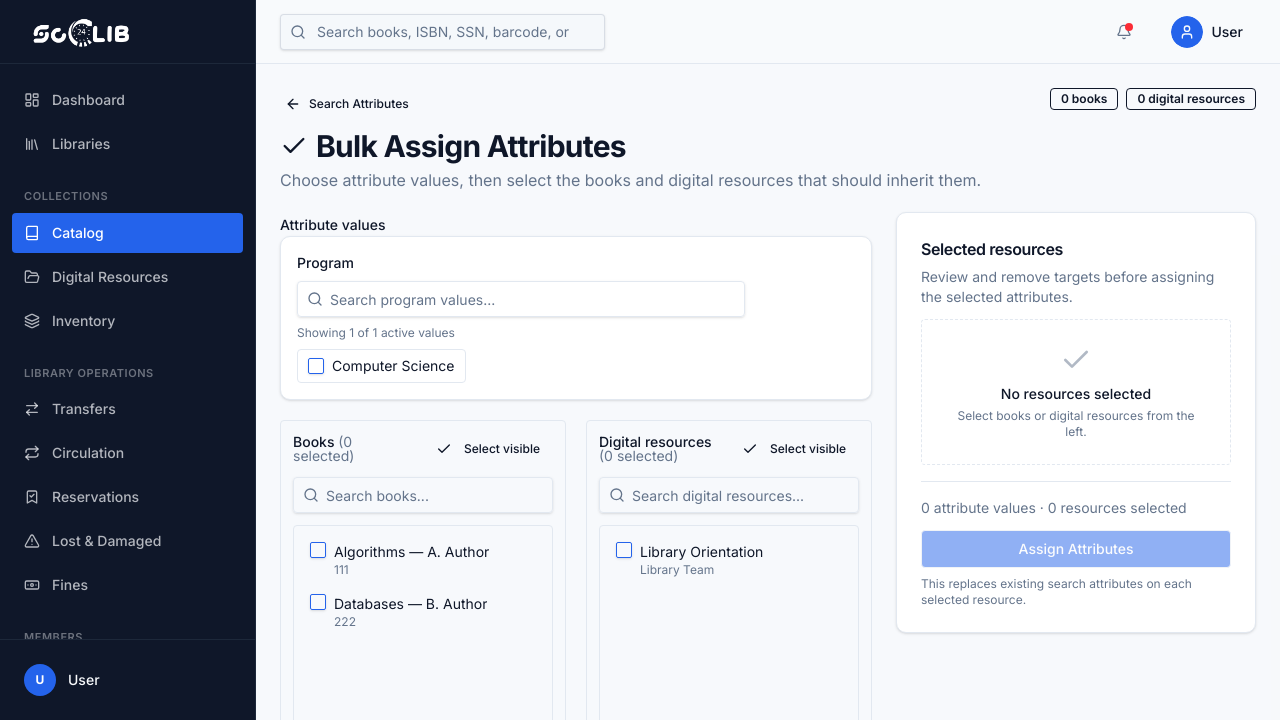
Test: SearchAttributesPage bulk assignment › filters bulk assignment attribute values by name
Type "computer" into the field with test id "input-search-bulk-attribute-1".
click(521, 299); type("computer")  # box [297, 281, 745, 317]
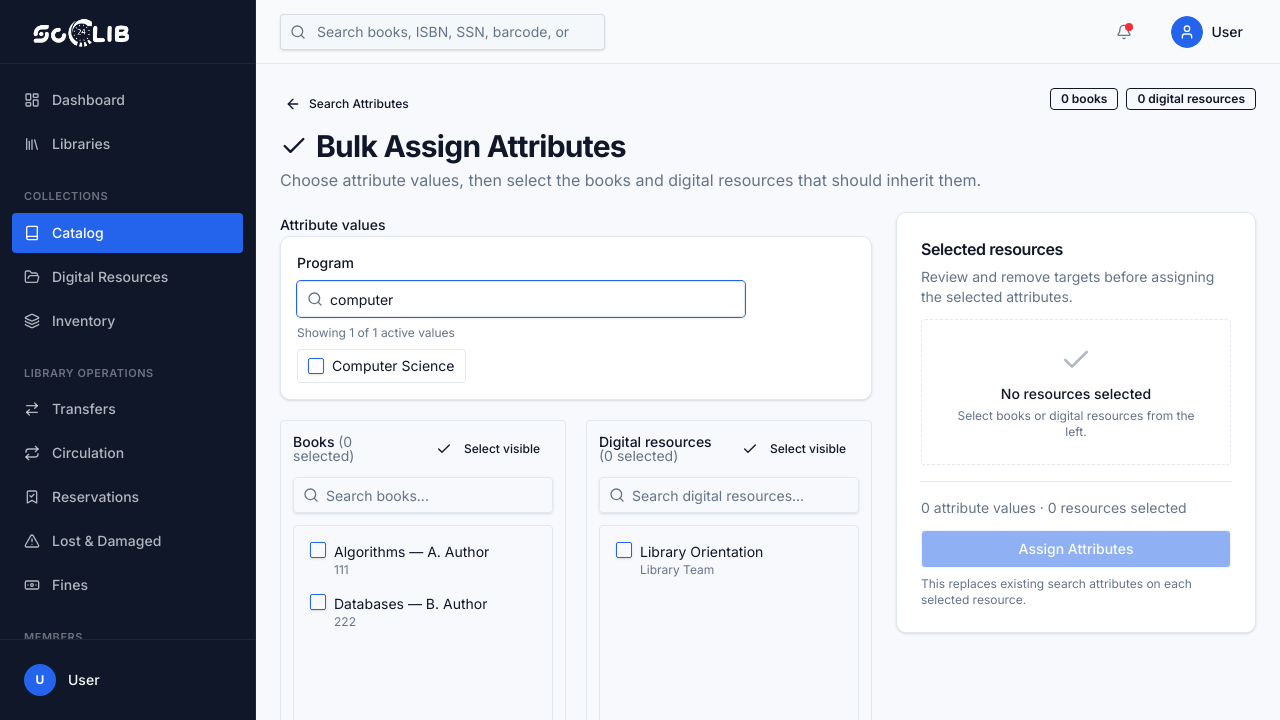
Expected: the checkbox with test id "checkbox-bulk-attribute-10" is shown, [308, 358, 324, 374]
Expected: the text "Showing 1 of 1 active values" is shown, [297, 325, 455, 340]
Replace the text in the field with test id "input-search-bulk-attribute-1" with "does-not-exist" at (521, 299), box [297, 281, 745, 317]
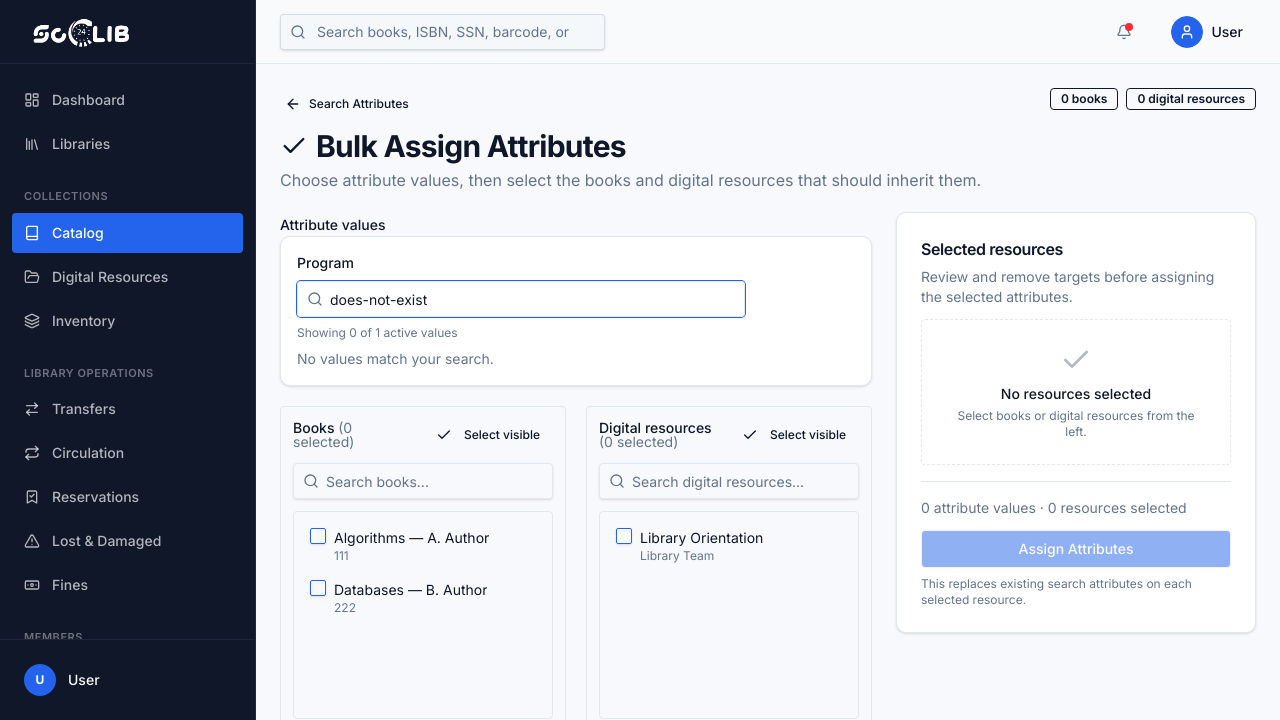
Expected: the text "No values match your search." is shown, [297, 350, 494, 367]
Expected: the text "Showing 0 of 1 active values" is shown, [297, 325, 458, 340]
